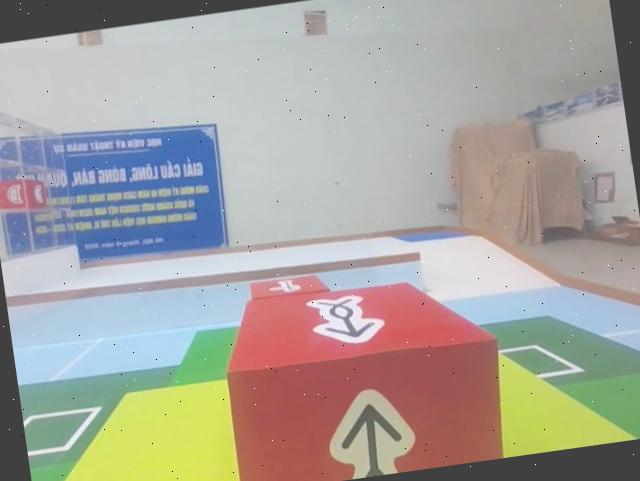R2 Real: (199, 261, 523, 481)
